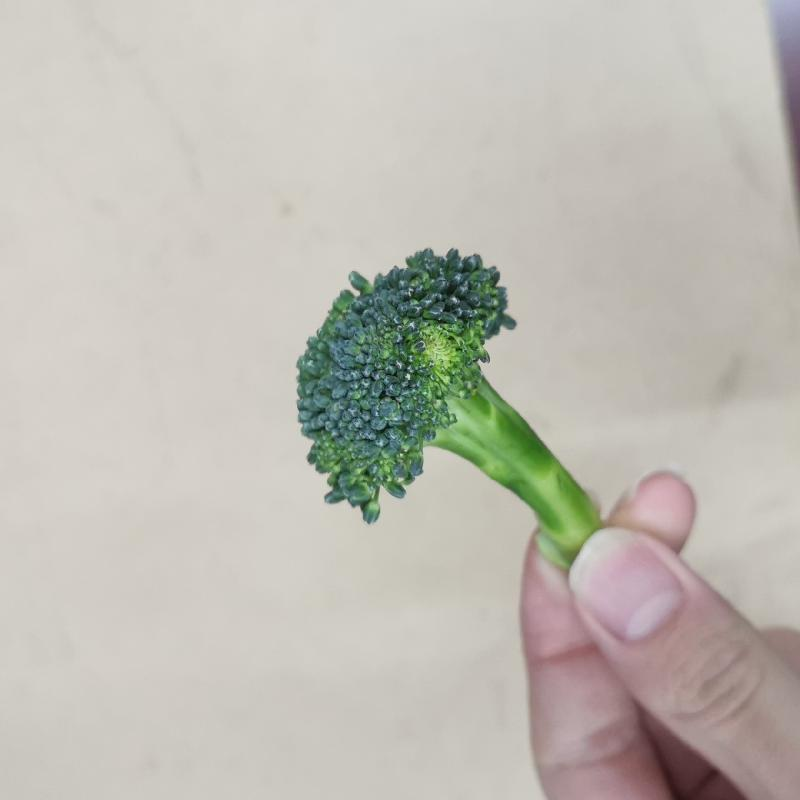broccoli: (265, 245, 621, 588)
